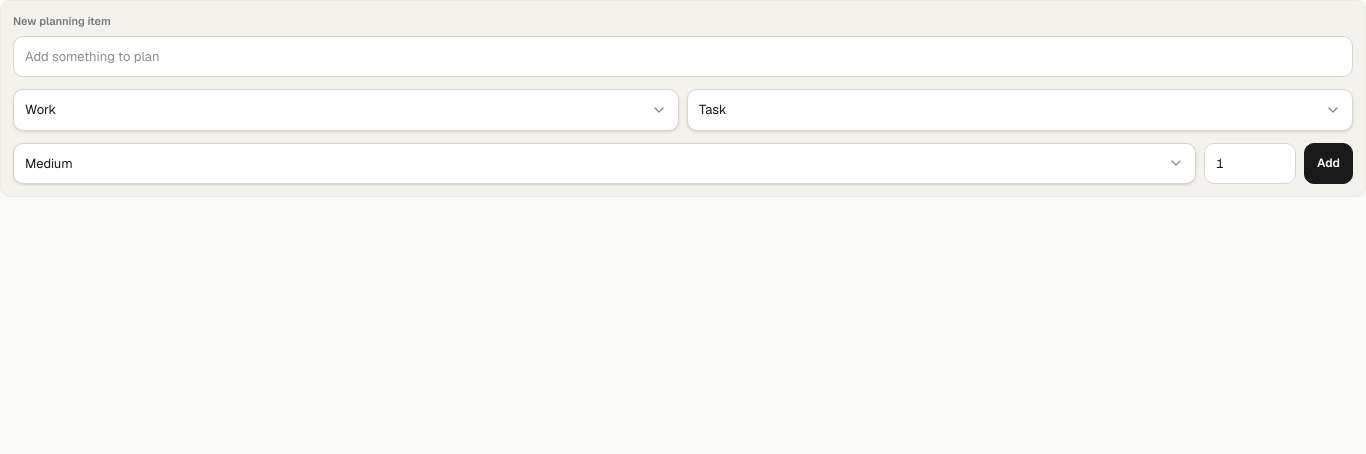
Test: AddItemForm › should open type dropdown and show options
This screenshot has width=1366, height=454.
Click the dropdown named "Type": (713, 110) [687, 89, 1353, 130]
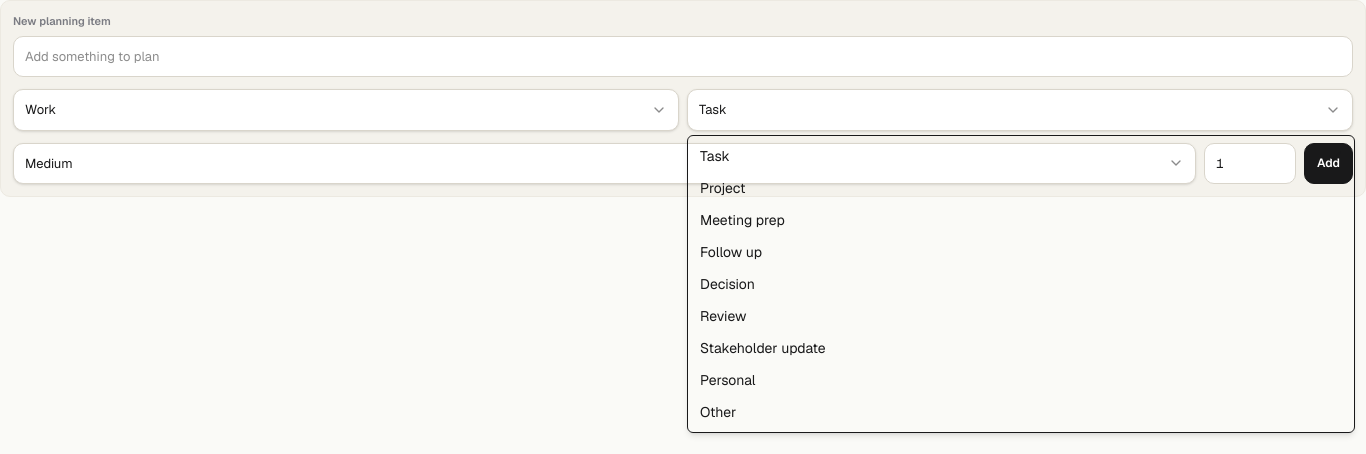
Check: the option "Task" is shown, box [700, 147, 1343, 165]
Check: the option "Project" is shown, box [700, 179, 746, 197]
Check: the option "Meeting prep" is shown, box [700, 211, 785, 229]
